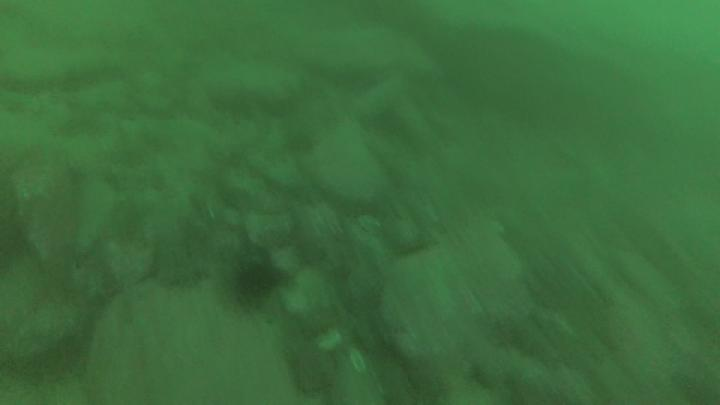echinus: (234, 256, 285, 308)
